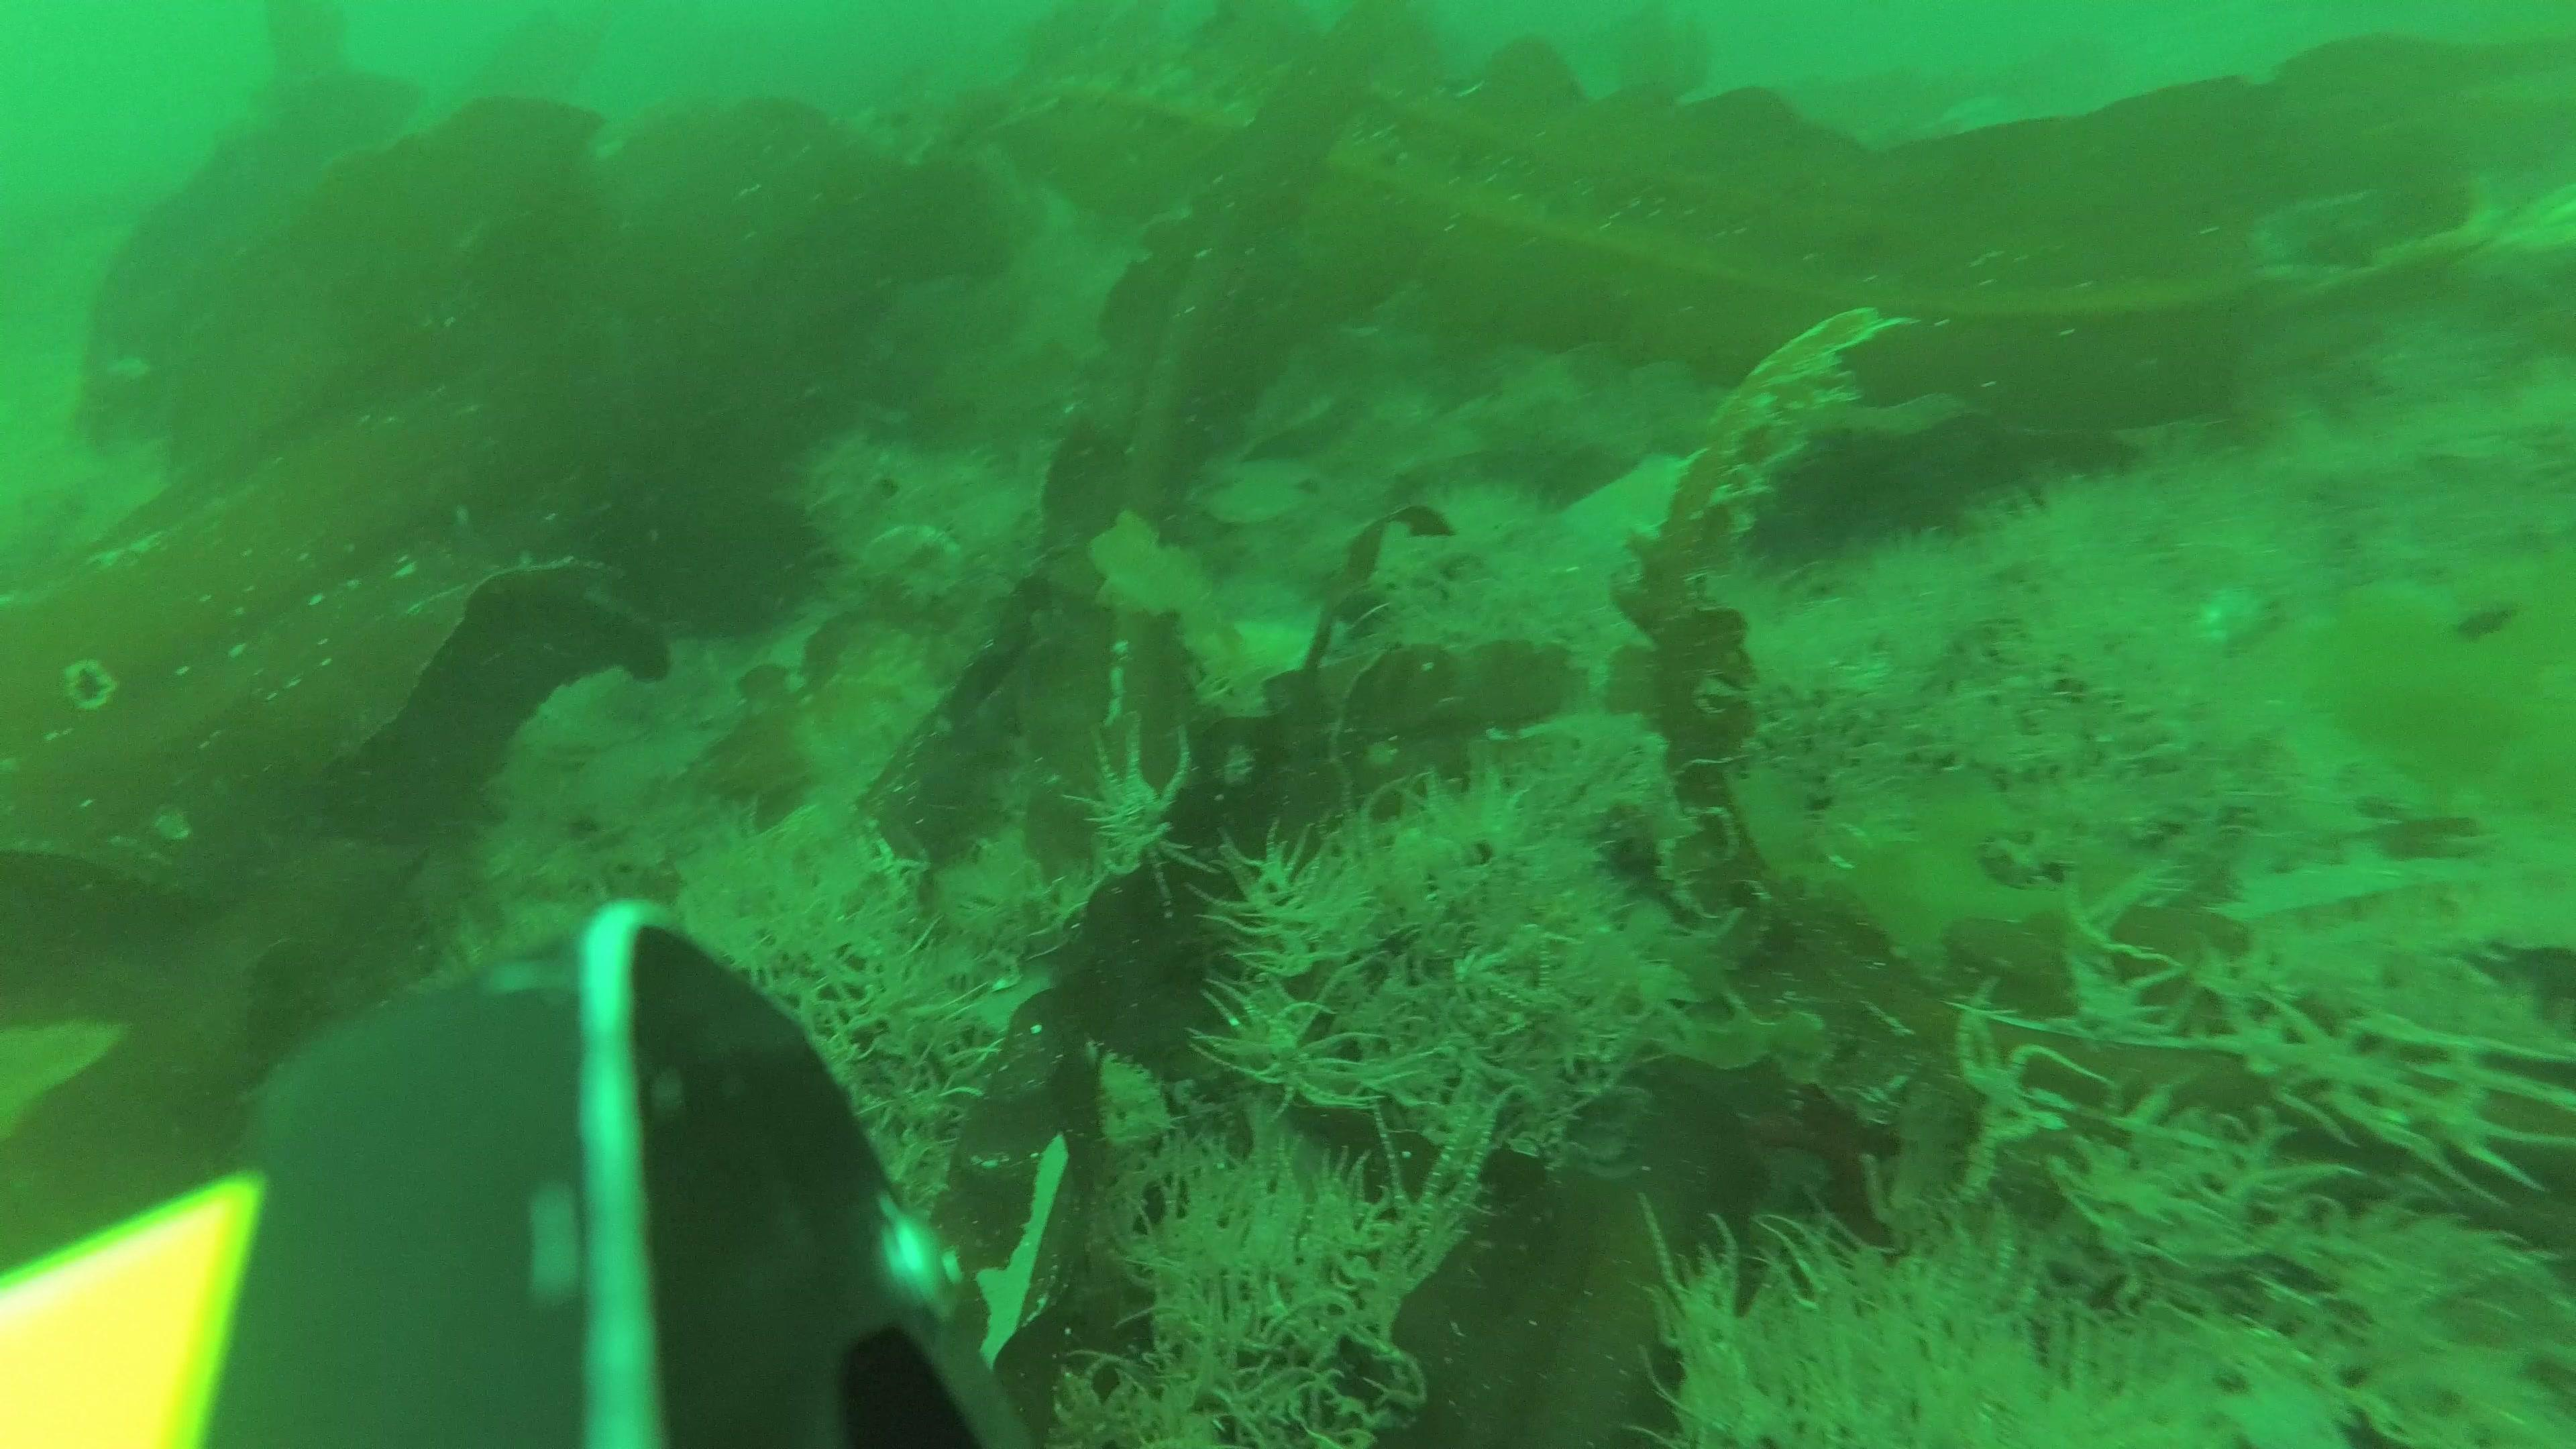starfish: (1566, 448, 1741, 556)
